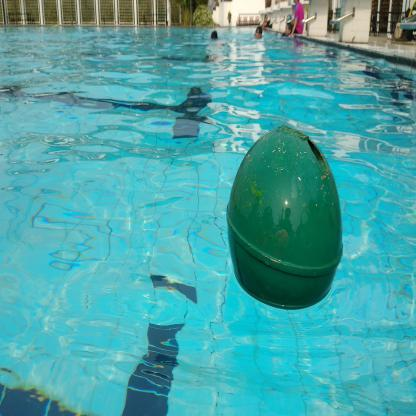green_buoy: (221, 122, 345, 309)
